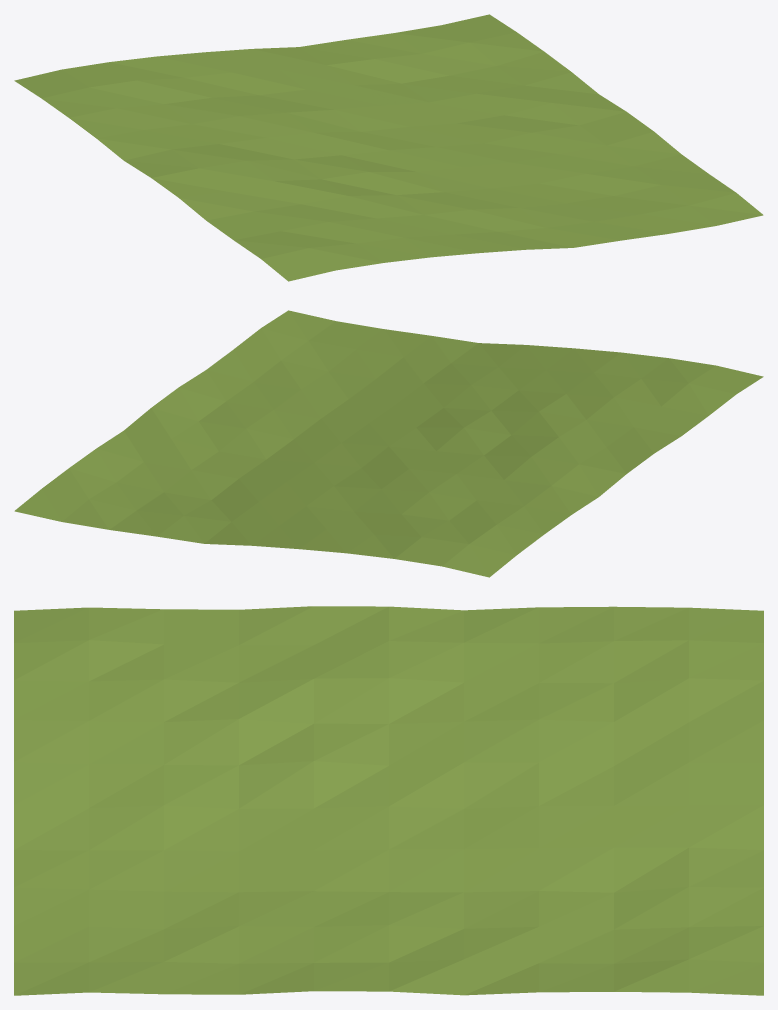
File: terrain-plane_04-2.fbx
3 renders of one model, top to bottom at view 1: azimuth 30°, elevation 25°; view 2: azimuth 150°, elevation 25°; view 3: azimuth 270°, elevation 25°, orthographic. The views are drawn at different scales.
Visible parts, largest first — view 1: terrain-plane_04-2; view 2: terrain-plane_04-2; view 3: terrain-plane_04-2.
Boxes of the visible parts, left/top/right/bottom form: terrain-plane_04-2: left=14, top=14, right=763, bottom=281; terrain-plane_04-2: left=14, top=310, right=763, bottom=577; terrain-plane_04-2: left=14, top=606, right=763, bottom=995.
Size of the model in its own units: 2001 by 213 by 2000.
